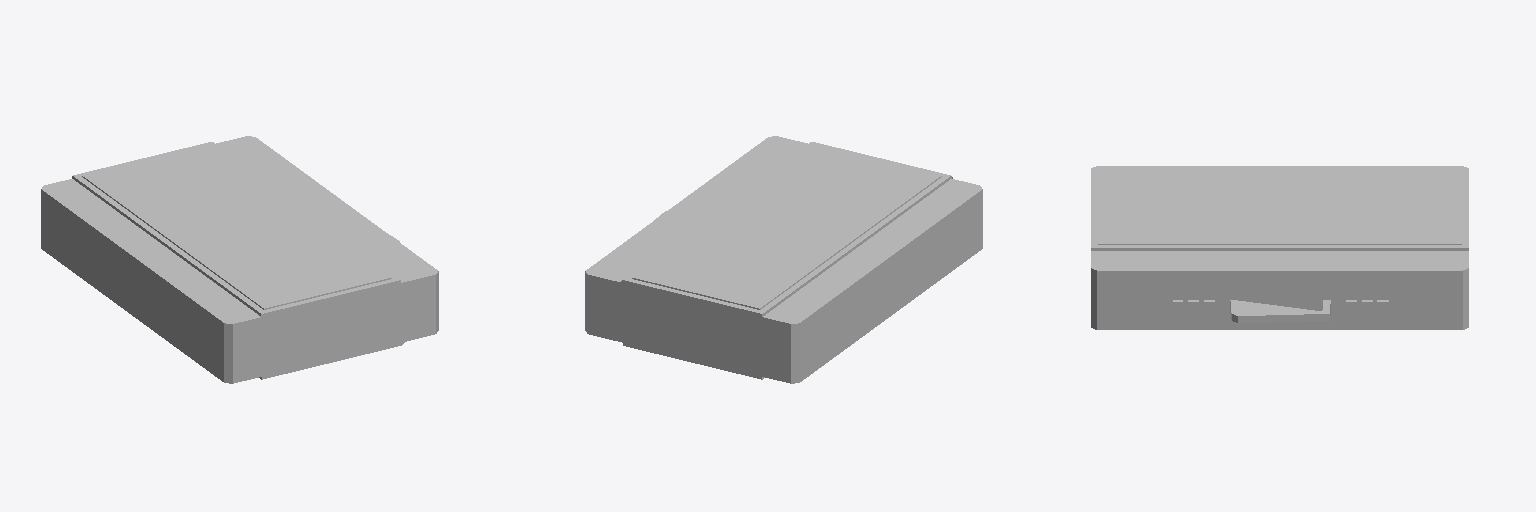
File: BriefcaseDecimated.obj
3 renders of one model, left to right at view 1: azimuth 30°, elevation 25°; view 2: azimuth 150°, elevation 25°; view 3: azimuth 270°, elevation 25°, orthographic.
Parts seen in each view (by area): view 1: Briefcase01.obj; view 2: Briefcase01.obj; view 3: Briefcase01.obj.
Boxes of the visible parts, x1,y1,x2,y2 form: Briefcase01.obj: [41, 136, 438, 383]; Briefcase01.obj: [585, 136, 982, 383]; Briefcase01.obj: [1091, 166, 1468, 329].
Size of the model in its own units: 0.433 by 0.1152 by 0.5756.